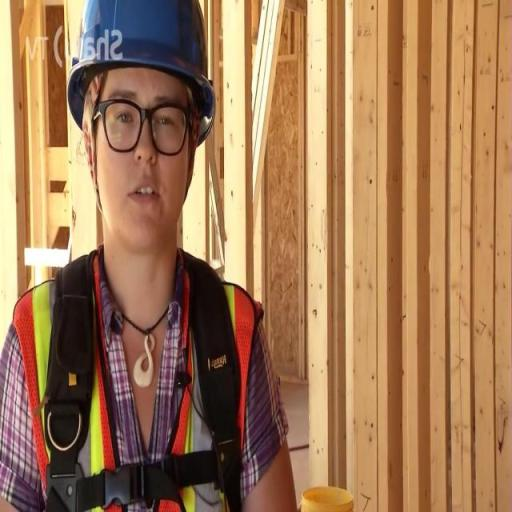helmet: (55, 1, 225, 140), (94, 490, 130, 512), (151, 493, 187, 512)
vest: (2, 247, 308, 511)
